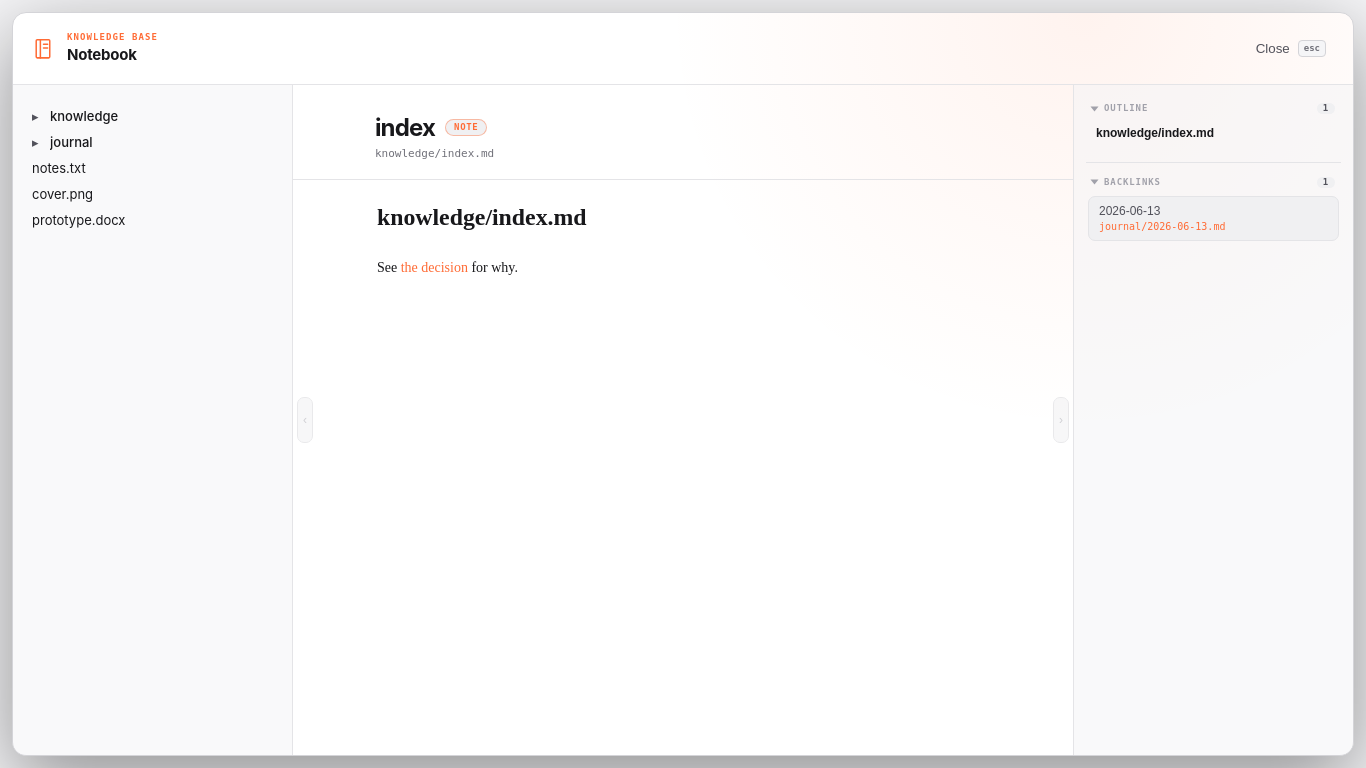
Test case: NotebookBrowser › opens a binary file as a read-only placeholder without reading it
This screenshot has width=1366, height=768.
Click the list item "cover.png" at (152, 194), box [23,181,282,207]
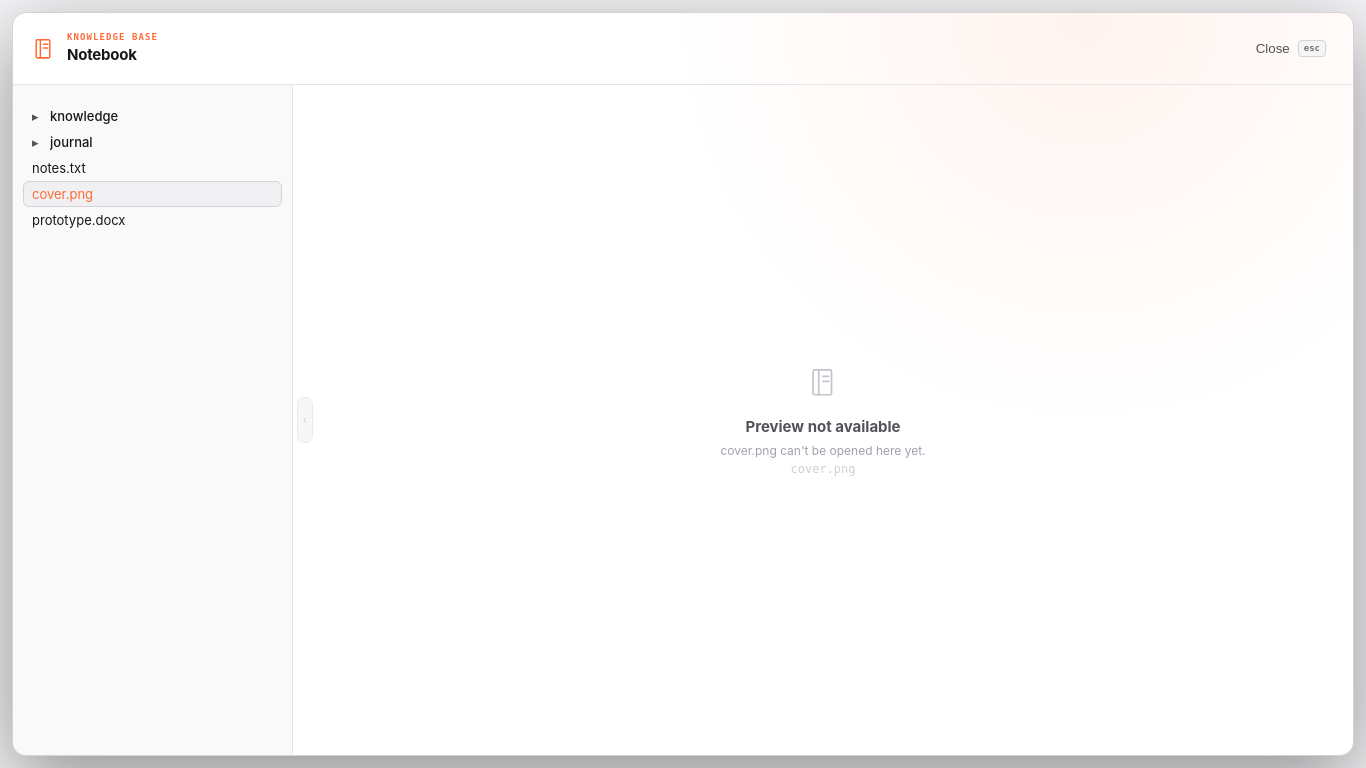
Now the heading "Preview not available" is shown, box [745,416,900,436]
Now the text "cover.png can't be opened here yet." is shown, box [720,442,926,458]
